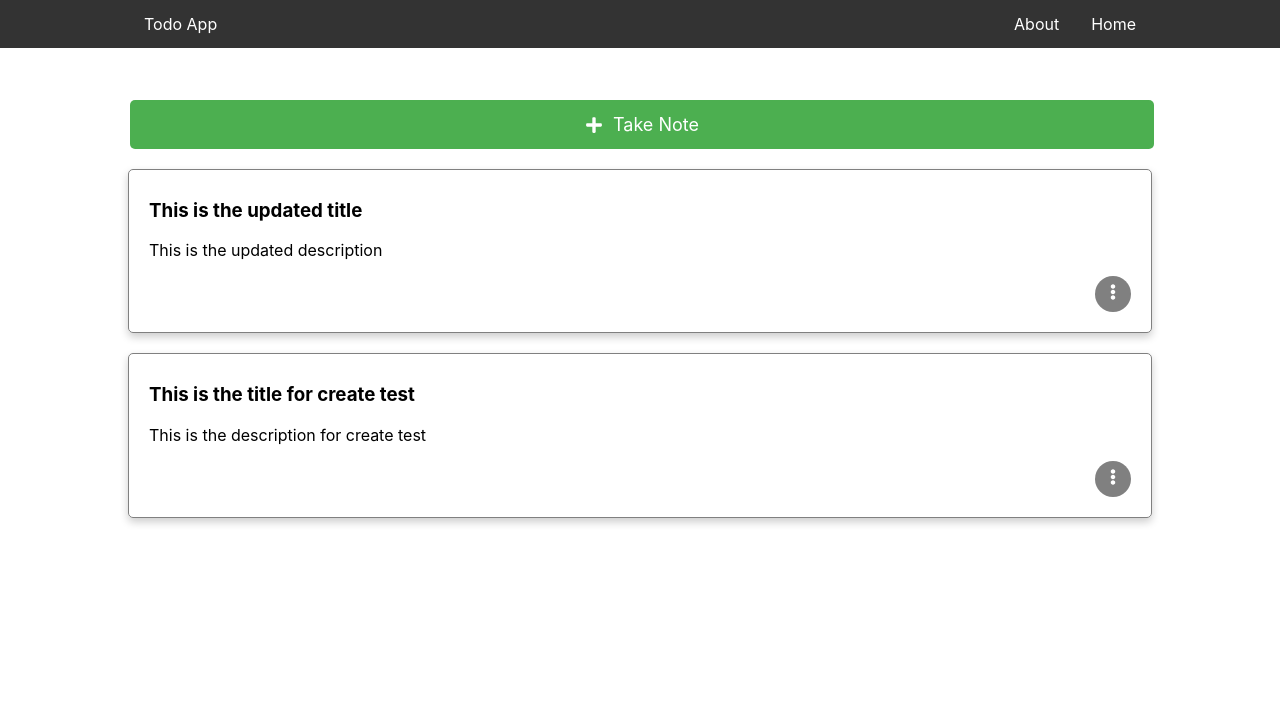
Scenario: NoteUpdatePage › tests validation
Click the heading "This is the updated title": (256, 211) [149,199,362,222]
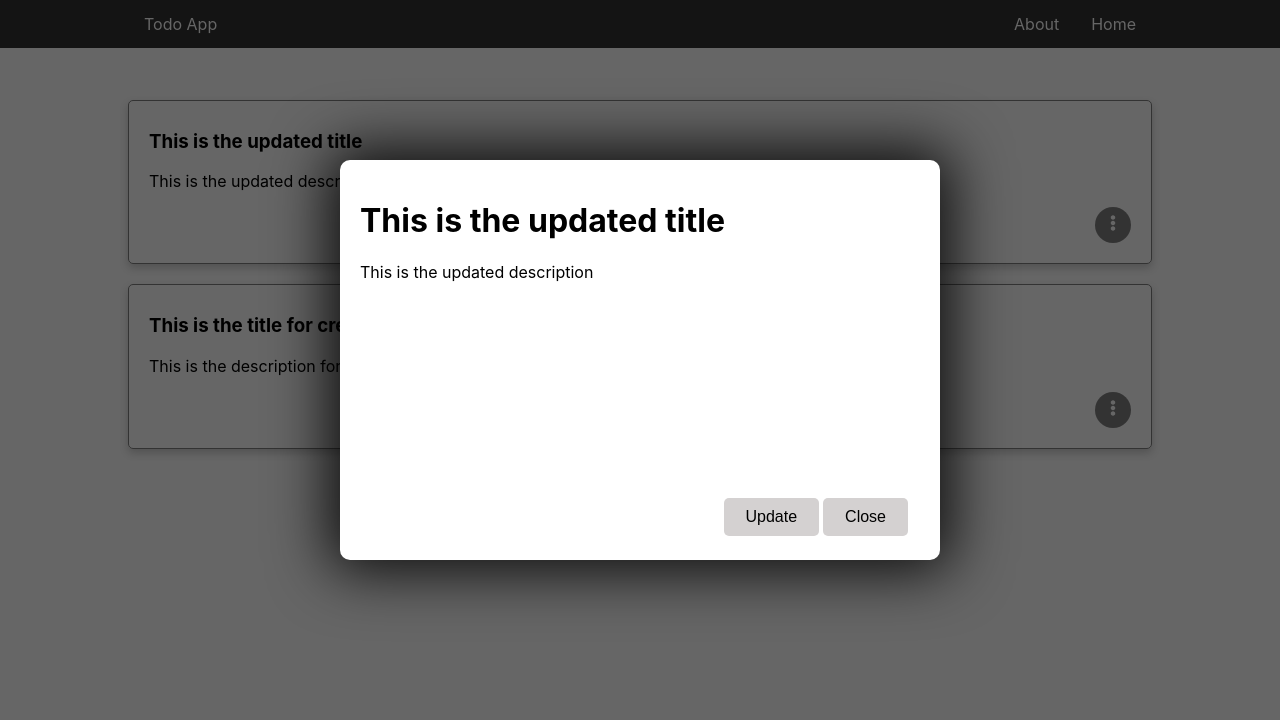
Click the button "Update": (772, 517) [724,498,820,536]
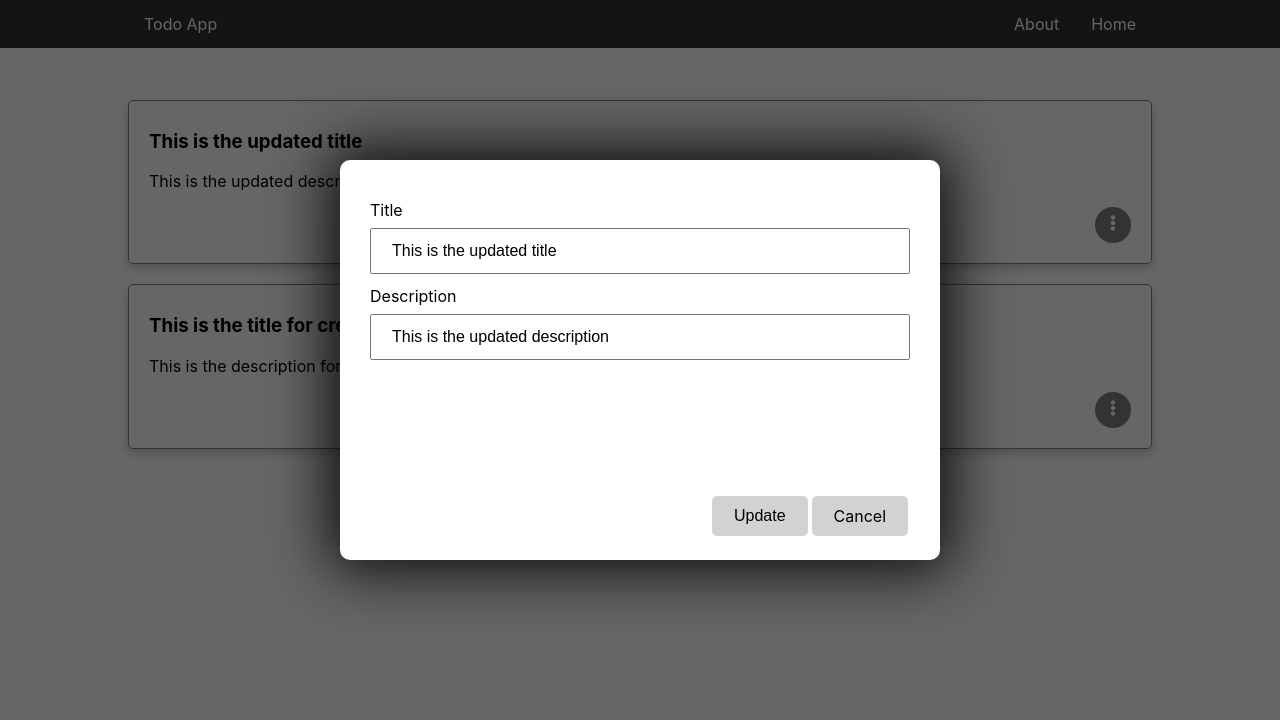
Clear the field named "title": (640, 251) [370,228,910,274]
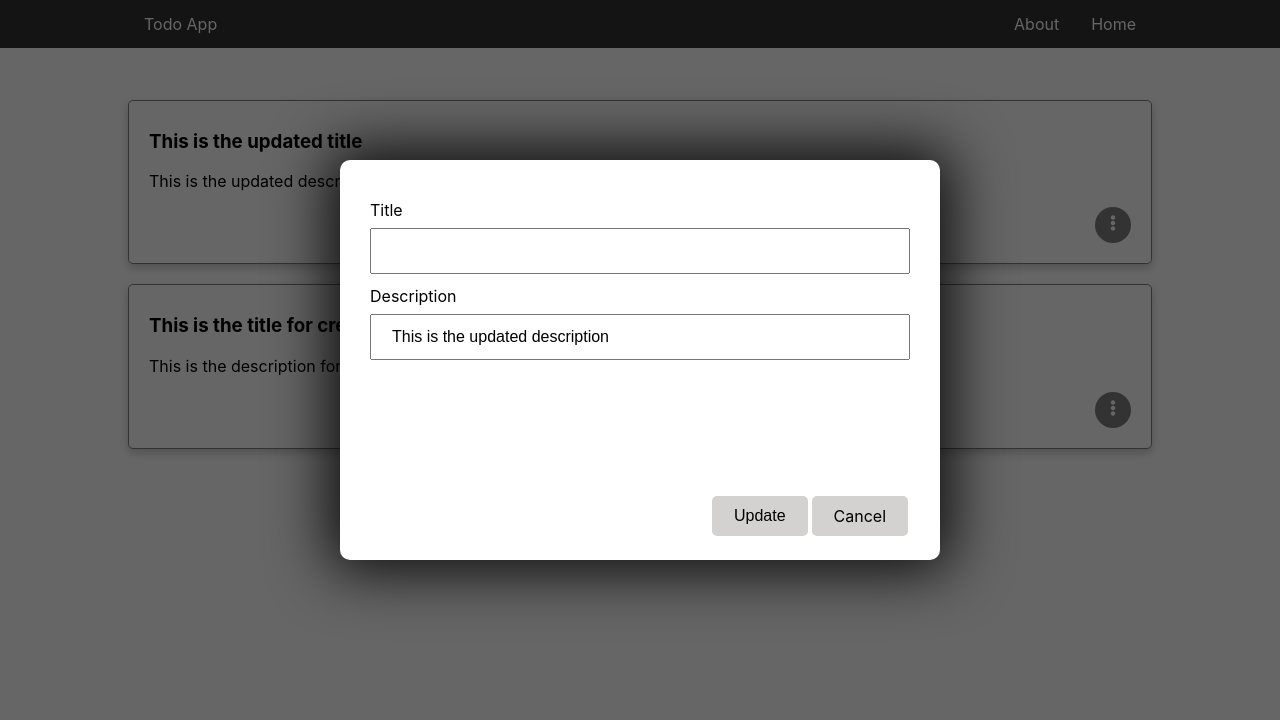
Click the button "Update": (760, 516) [712,496,808,536]
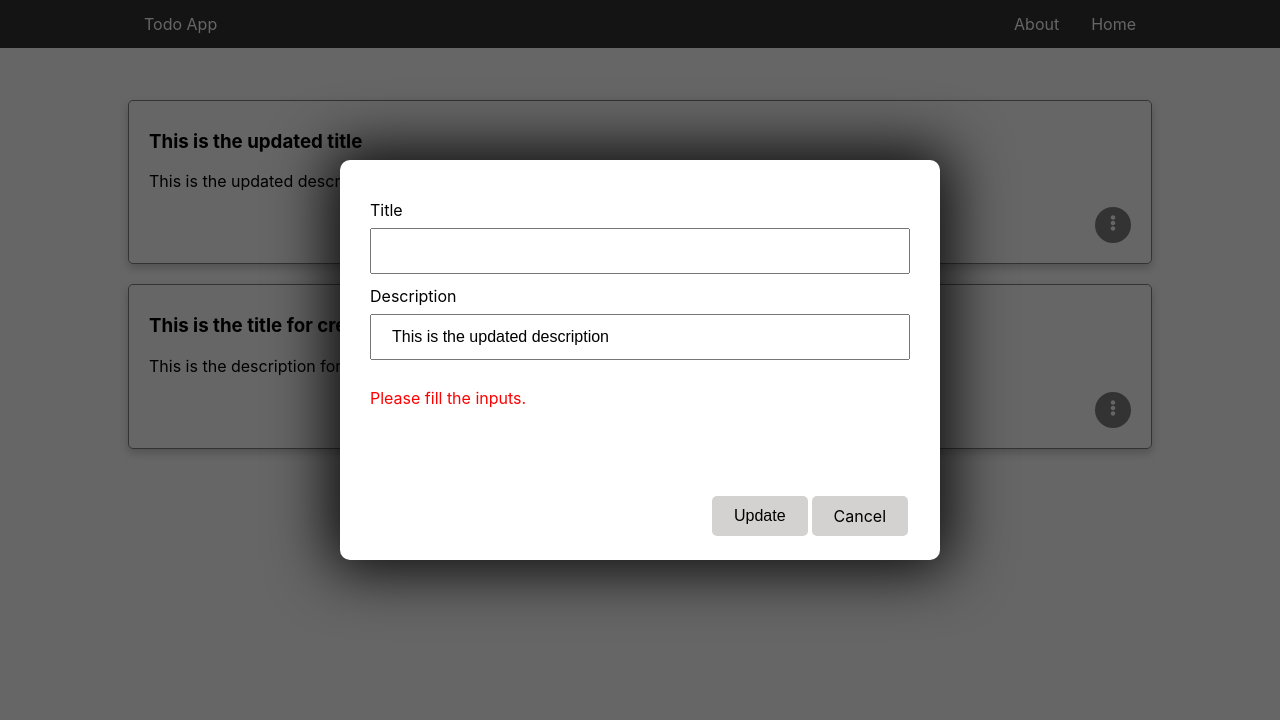
expect the text "Please fill the inputs" is shown: met, box [370,388,526,408]
